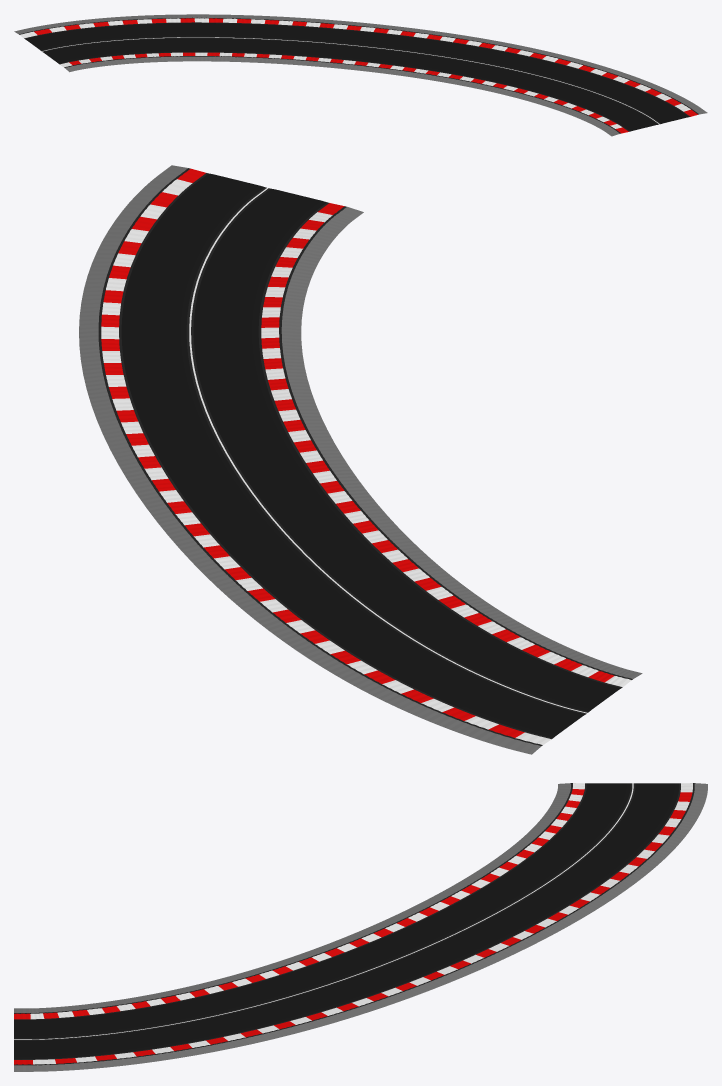
The picture shows the model from 3 angles, top to bottom: view 1: azimuth 30°, elevation 25°; view 2: azimuth 150°, elevation 25°; view 3: azimuth 270°, elevation 25°; orthographic projection. The views are drawn at different scales.
Parts seen in each view (by area): view 1: Grid; view 2: Grid; view 3: Grid.
Part boxes in pixels (x1=…): Grid: x1=14, y1=14, x2=707, y2=136; Grid: x1=79, y1=165, x2=642, y2=754; Grid: x1=14, y1=783, x2=707, y2=1071.
Bounding box in the file's own units: 114 × 0.2171 × 116.
